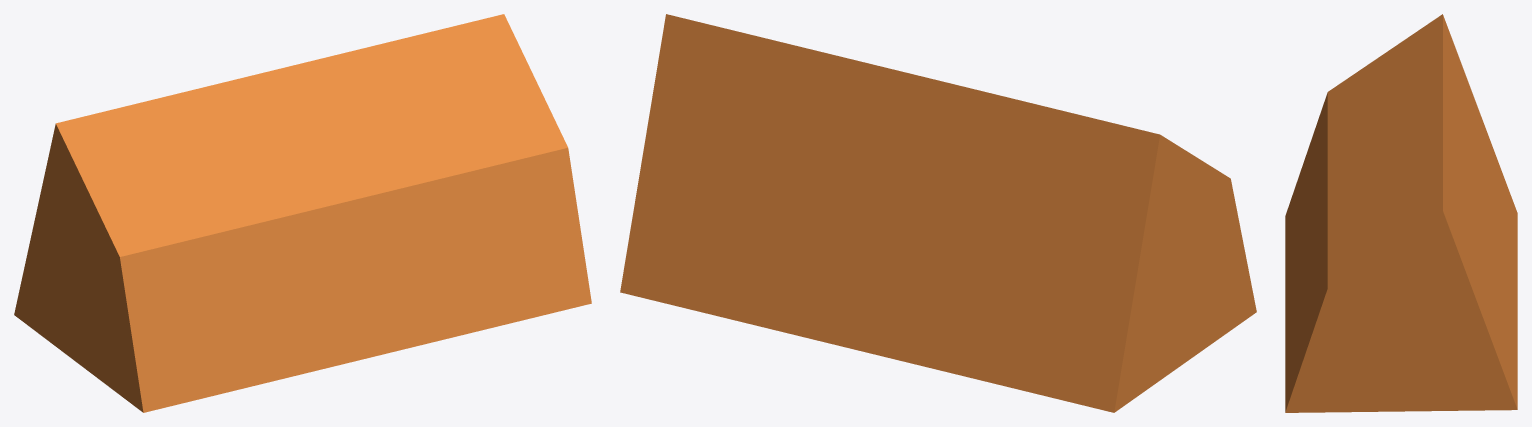
Rendered from trunk02.glb.
3 renders of one model, left to right at view 1: azimuth 30°, elevation 25°; view 2: azimuth 150°, elevation 25°; view 3: azimuth 270°, elevation 25°, orthographic. The views are drawn at different scales.
Visible parts, largest first — view 1: Cylinder; view 2: Cylinder; view 3: Cylinder.
Boxes of the visible parts, box(x1,y1,x2,y2) form: Cylinder: box(14, 14, 591, 412); Cylinder: box(620, 14, 1256, 412); Cylinder: box(1285, 14, 1517, 412).
Size of the model in its own units: 1.62 by 0.7782 by 0.8102.
